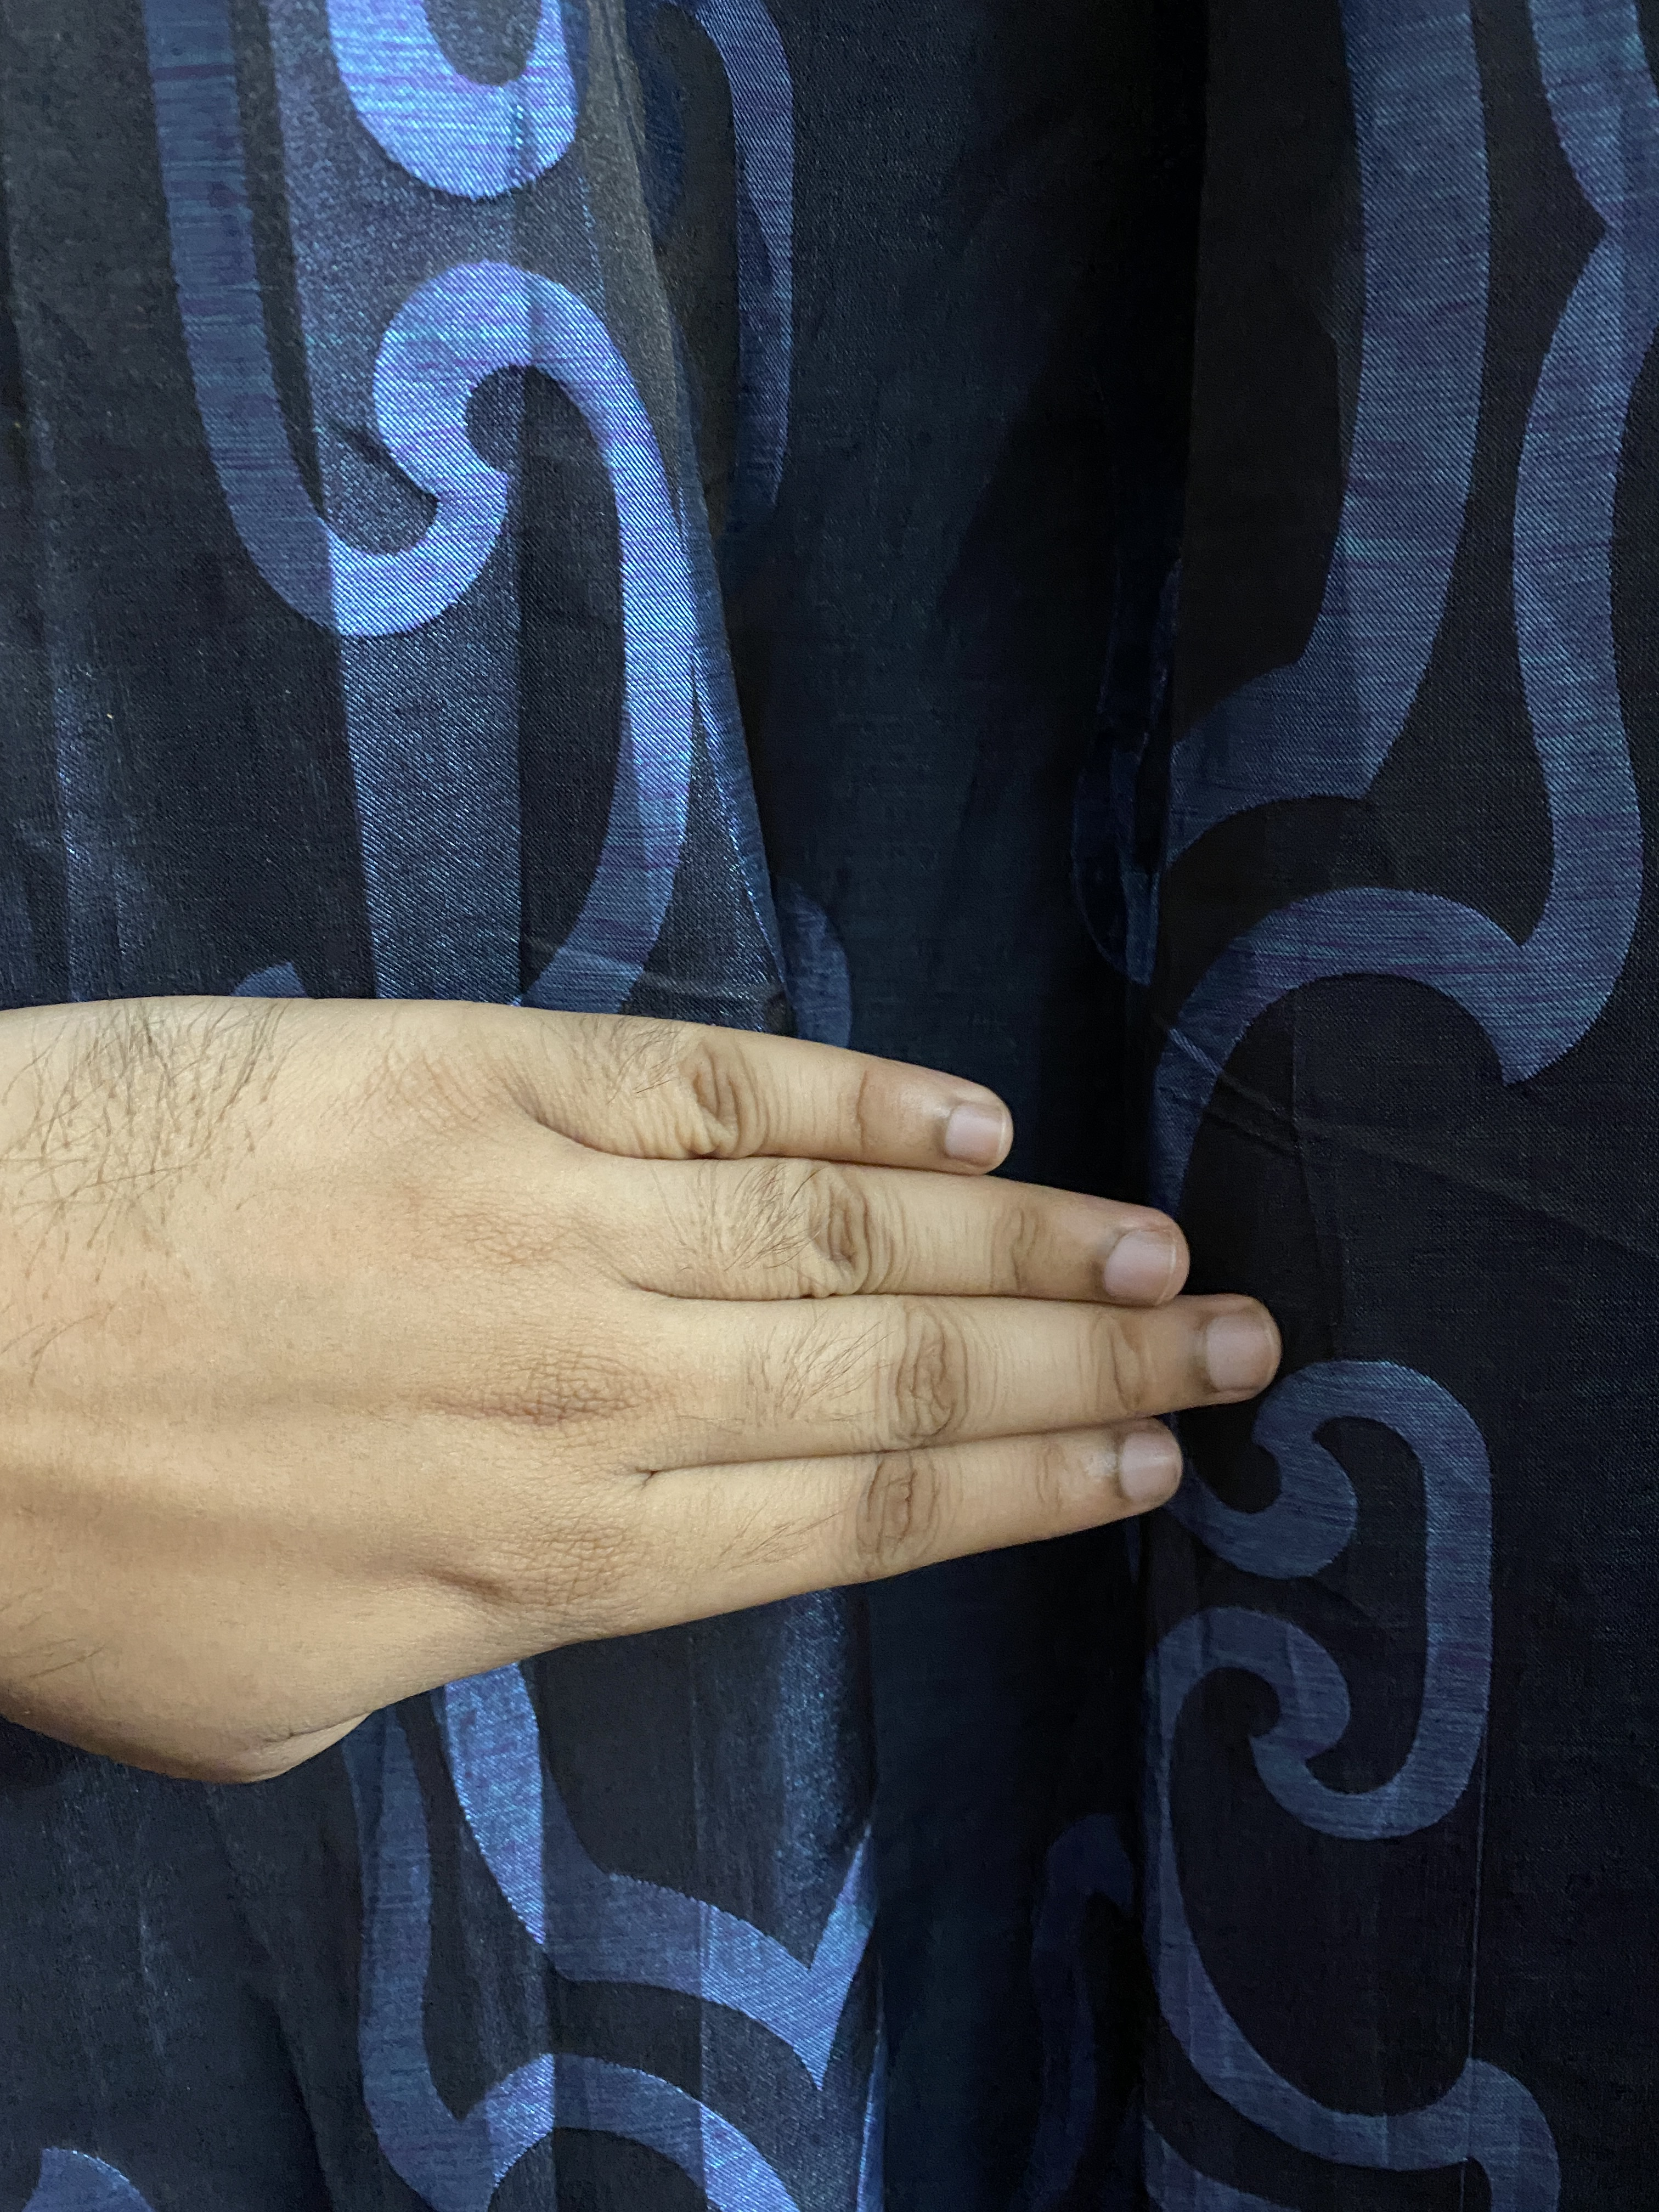left: (5, 920, 1321, 1841)
